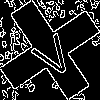V: (25, 25, 78, 81)
